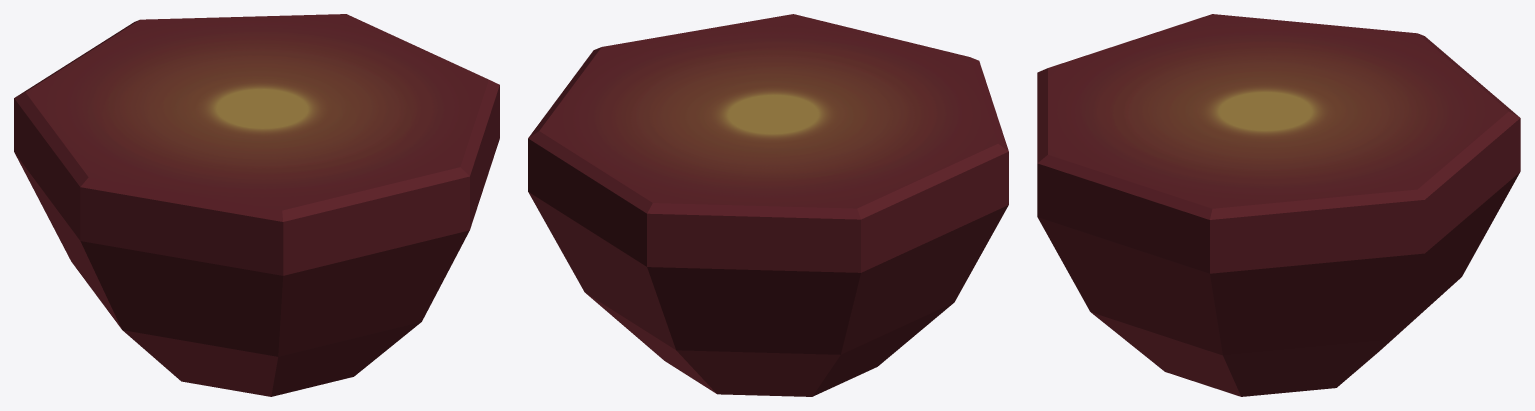
Rendered from right_grape.fbx.
The picture shows the model from 3 angles, left to right: view 1: azimuth 30°, elevation 25°; view 2: azimuth 150°, elevation 25°; view 3: azimuth 270°, elevation 25°; orthographic projection.
Visible parts, largest first — view 1: 円.003; view 2: 円.003; view 3: 円.003.
Part boxes in pixels (x1=…): 円.003: x1=14, y1=14, x2=499, y2=396; 円.003: x1=528, y1=14, x2=1008, y2=396; 円.003: x1=1037, y1=14, x2=1520, y2=396.
Size of the model in its own units: 250 by 145 by 250.
